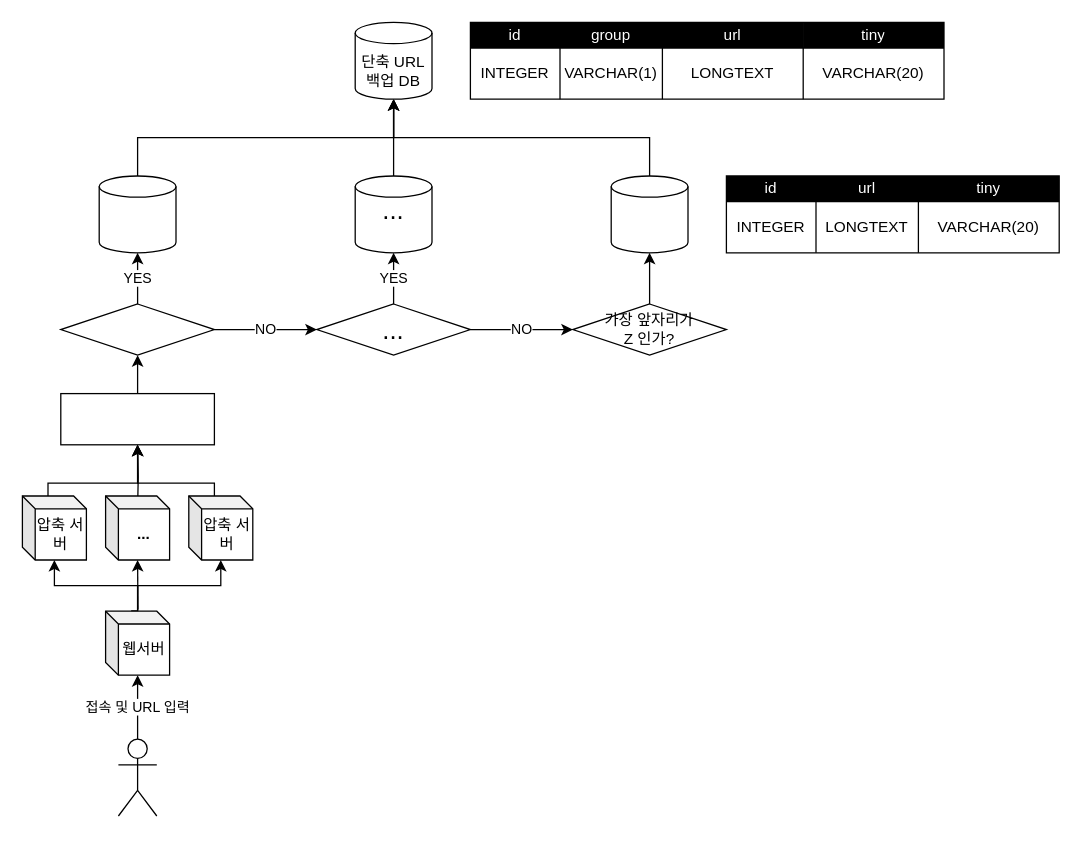
This 1082x865 diagram has some shape labels left out. The shapes that lost their labels are listed below. From the top down, each one's box as (x1, y1, x2, y2) in pixels, then its label:
(98, 175, 176, 253): 그룹 0 단축 URL DB
(610, 175, 688, 253): 그룹 Z 단축 URL DB
(60, 303, 214, 355): 가장 앞자리가 0 인가?
(60, 392, 214, 445): 압축 알고리즘을 통해 압축 주소 추출
